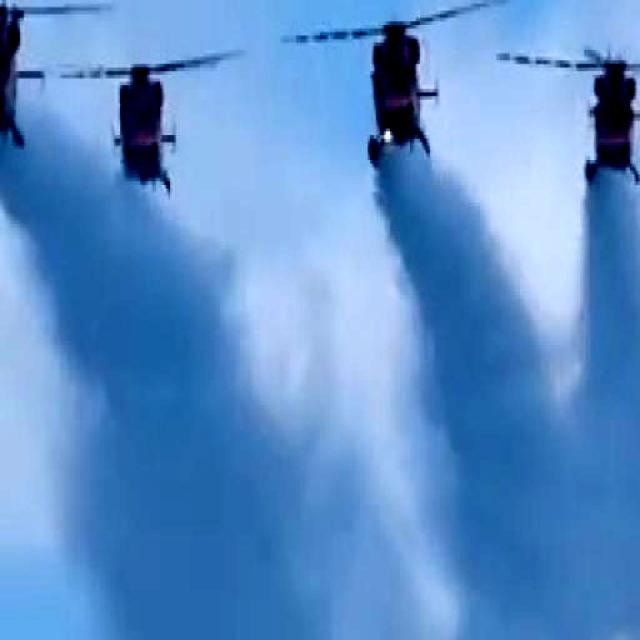drone: (60, 21, 249, 214), (282, 10, 501, 172), (505, 0, 640, 199), (0, 0, 86, 154)
